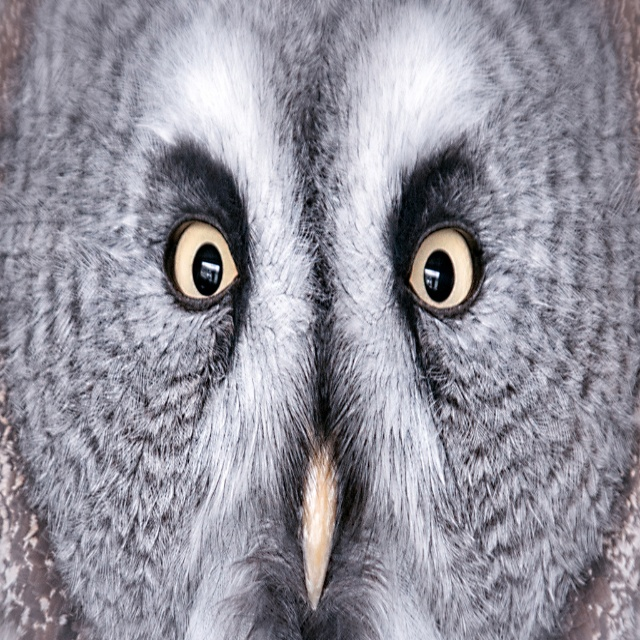Owl: (0, 4, 640, 639)
